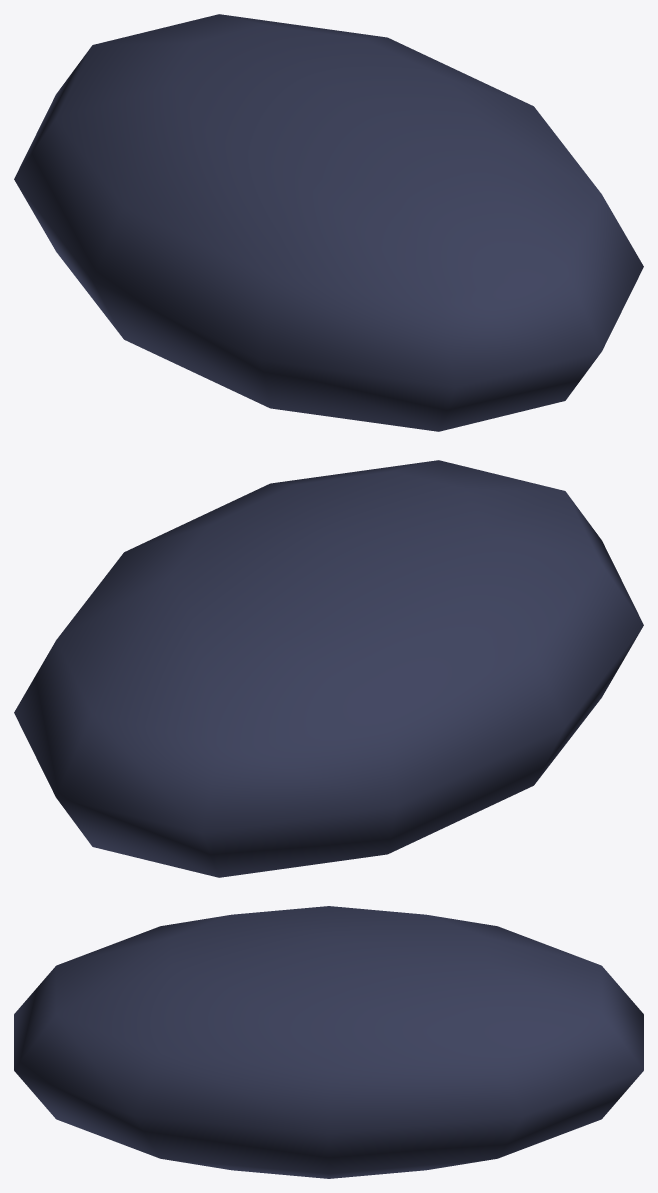
File: mouse.glb
3 renders of one model, top to bottom at view 1: azimuth 30°, elevation 25°; view 2: azimuth 150°, elevation 25°; view 3: azimuth 270°, elevation 25°, orthographic. The views are drawn at different scales.
Parts seen in each view (by area): view 1: part; view 2: part; view 3: part.
Boxes of the visible parts, x1,y1,x2,y2 form: part: [14, 14, 643, 431]; part: [14, 460, 643, 877]; part: [14, 906, 643, 1178].
Bounding box in the file's own units: 0.13 × 0.07 × 0.1902.
1 material, 1 textured.
